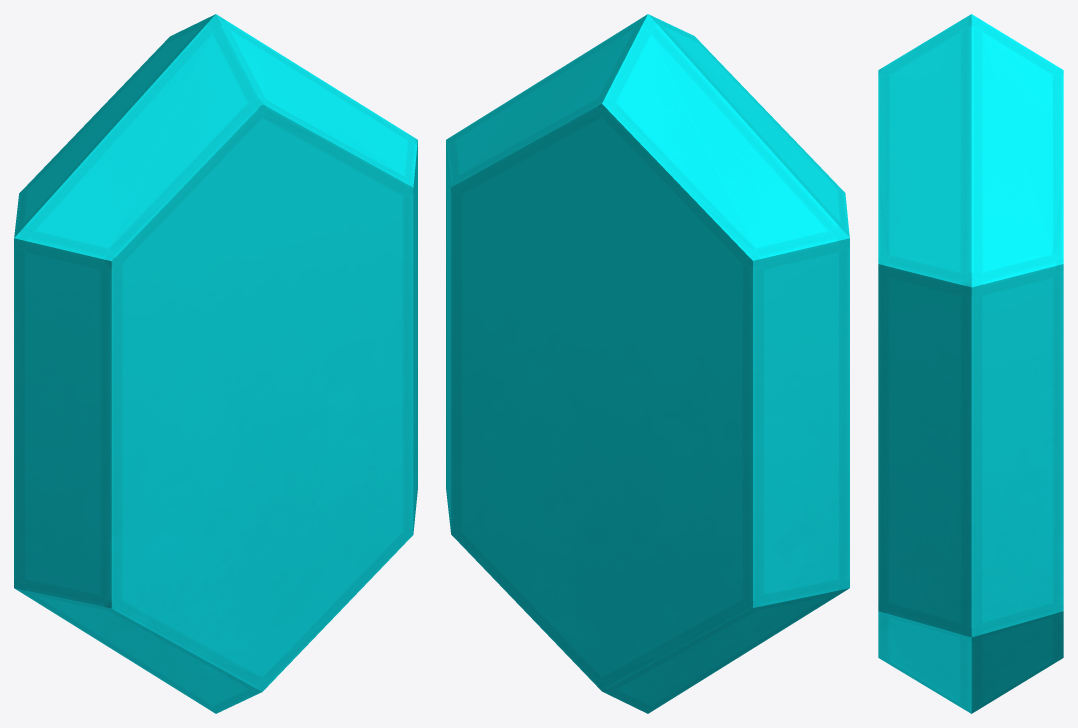
The model's file is crystal3-1tex.fbx.
3 renders of one model, left to right at view 1: azimuth 30°, elevation 25°; view 2: azimuth 150°, elevation 25°; view 3: azimuth 270°, elevation 25°, orthographic.
Parts seen in each view (by area): view 1: crystal3-1tex; view 2: crystal3-1tex; view 3: crystal3-1tex.
Boxes of the visible parts, x1=… form: crystal3-1tex: x1=14, y1=14, x2=417, y2=713; crystal3-1tex: x1=446, y1=14, x2=849, y2=713; crystal3-1tex: x1=878, y1=14, x2=1063, y2=713.
Size of the model in its own units: 0.297 by 0.4921 by 0.1179.
